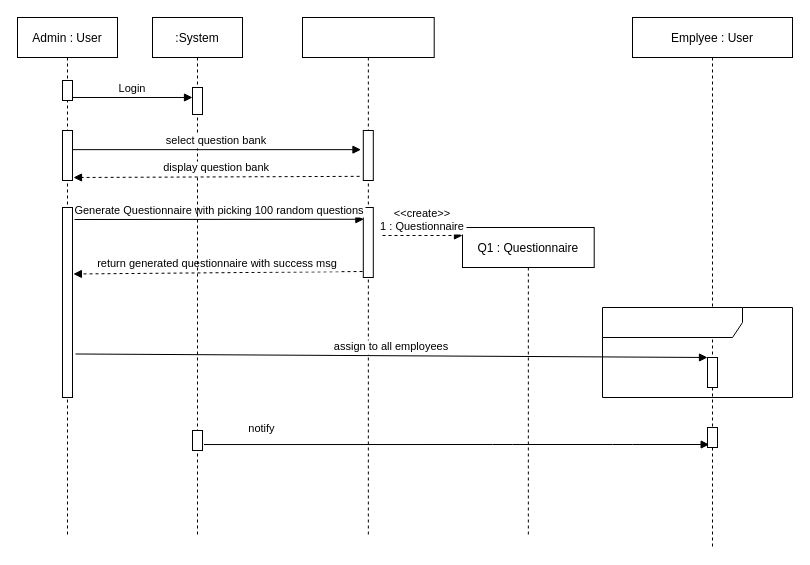
Some shapes in this 810 by 565 pixel diagram are drawn without their labels. The centre of each missing label's shape, as x and y in pixels:
:Question Bank: (x=368, y=277)
Loop (employees): (x=697, y=352)
